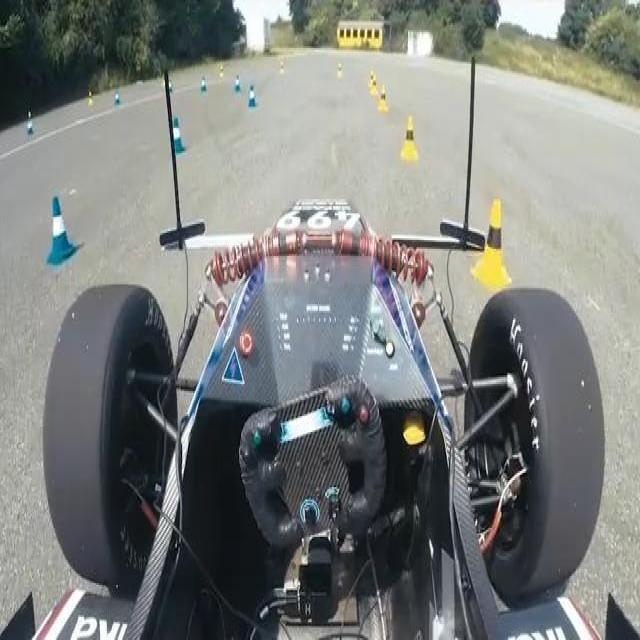blue_cone: (40, 182, 86, 282), (158, 103, 193, 162), (227, 68, 264, 118)
yellow_cone: (469, 176, 522, 292), (354, 59, 396, 128), (402, 117, 424, 168)
